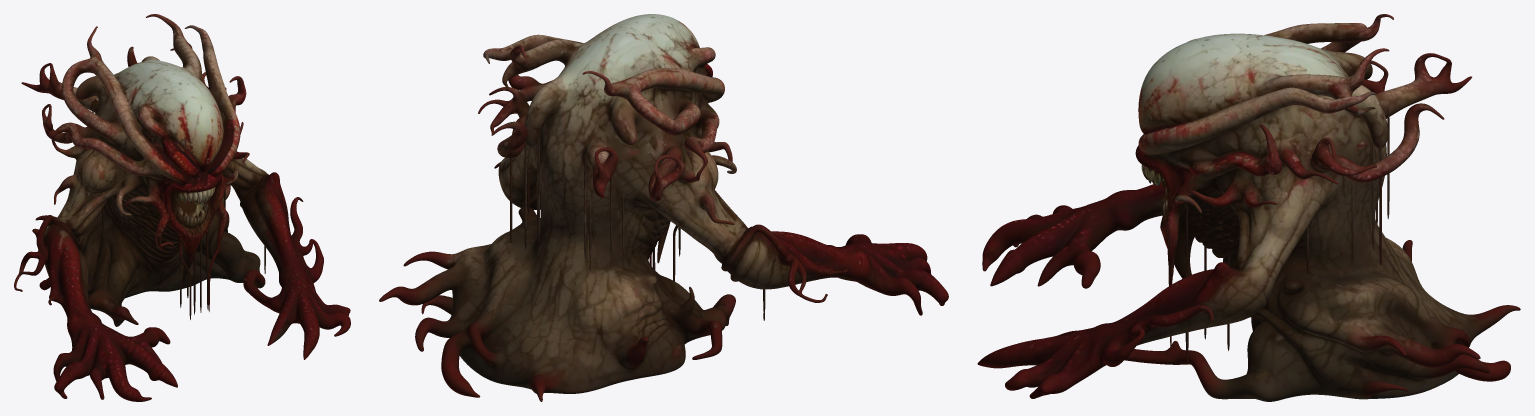
The model's file is halflife.glb.
3 renders of one model, left to right at view 1: azimuth 30°, elevation 25°; view 2: azimuth 150°, elevation 25°; view 3: azimuth 270°, elevation 25°, orthographic. The views are drawn at different scales.
Visible parts, largest first — view 1: texture_pbr_v128; view 2: texture_pbr_v128; view 3: texture_pbr_v128.
Part boxes in pixels (bbox=[...]): texture_pbr_v128: bbox=[14, 14, 350, 401]; texture_pbr_v128: bbox=[379, 14, 948, 401]; texture_pbr_v128: bbox=[977, 14, 1520, 401].
Bounding box in the file's own units: 0.807 × 0.6188 × 0.9268.
Materials: 1 (1 with a texture image).
